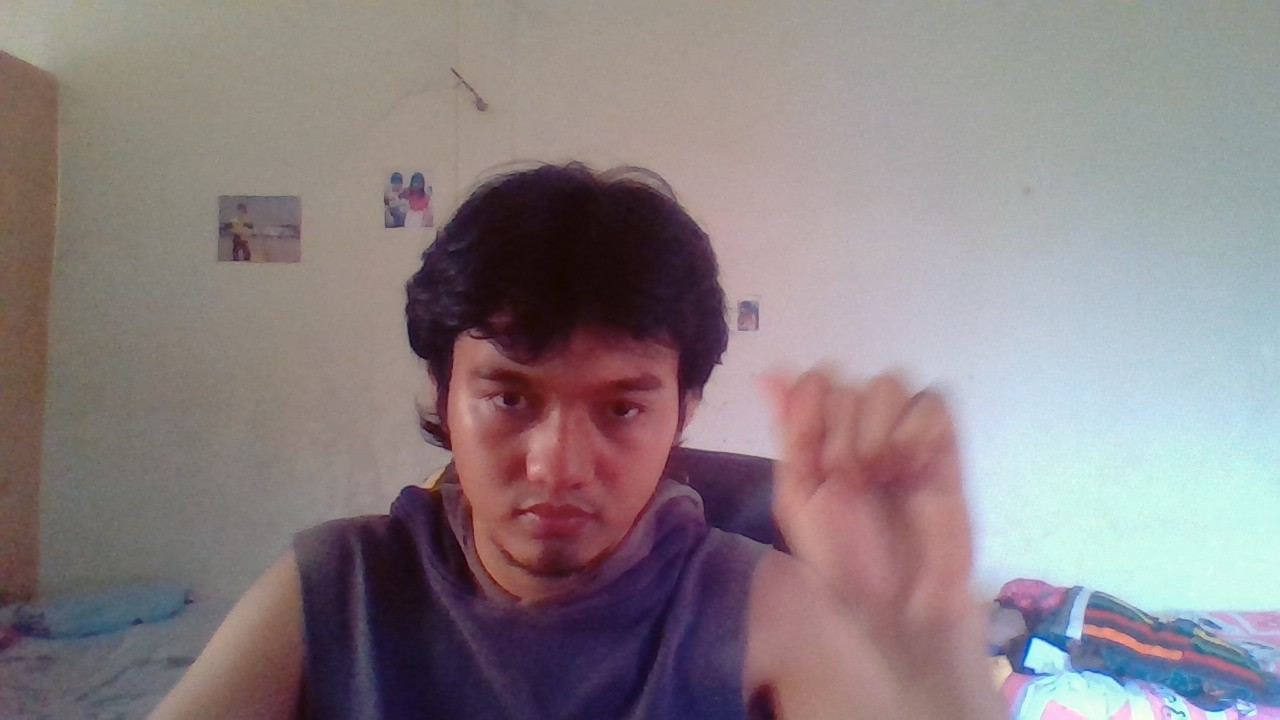A: (724, 351, 1028, 632)
